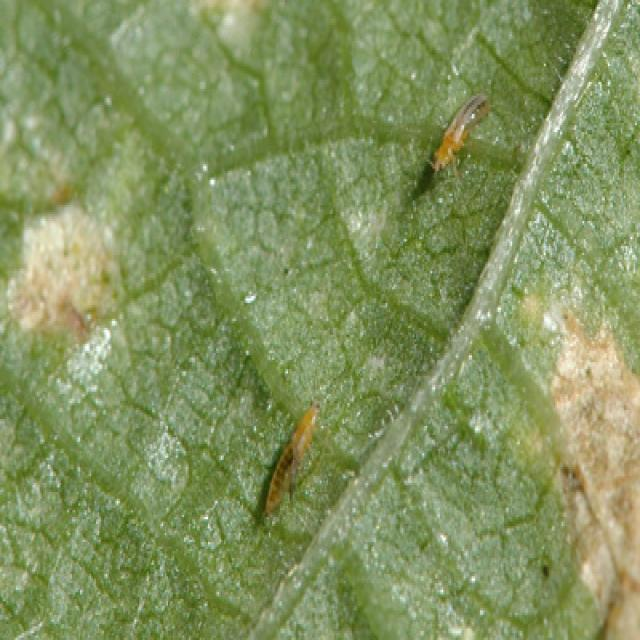Thrip-Adult-: (402, 84, 498, 205), (252, 400, 330, 529)
